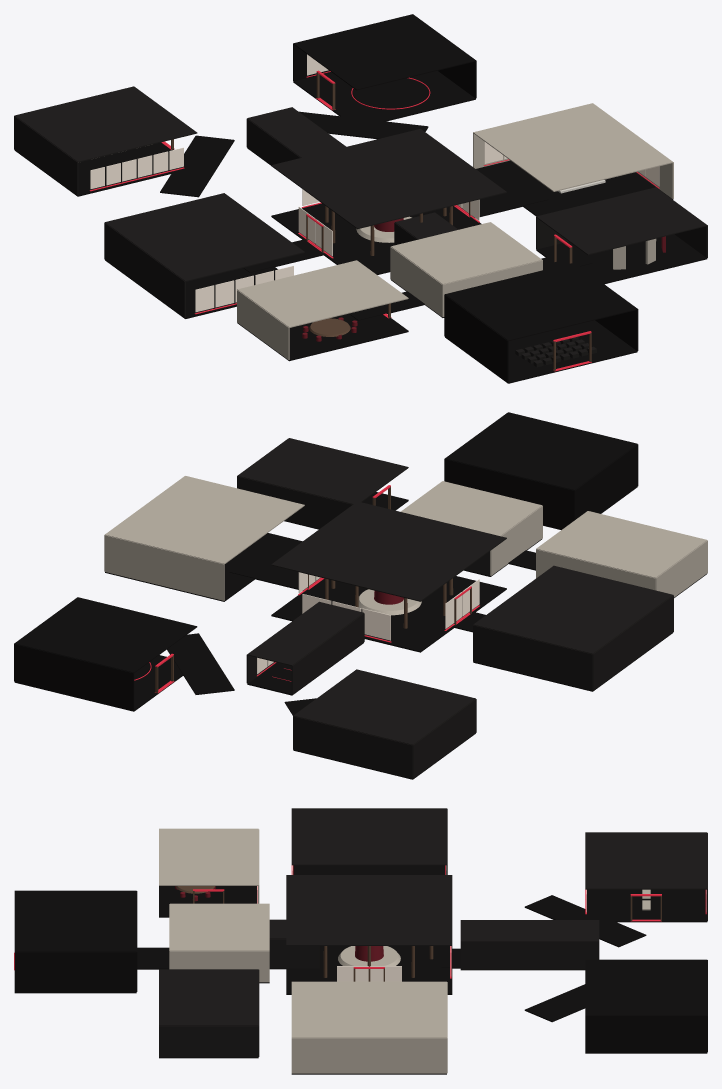
Rendered from artimist-digital-campus.glb.
3 renders of one model, top to bottom at view 1: azimuth 30°, elevation 25°; view 2: azimuth 150°, elevation 25°; view 3: azimuth 270°, elevation 25°, orthographic. The views are drawn at different scales.
Visible parts, largest first — view 1: ATRIUM_CEILING, RESIDENTIAL_CEILING, ATLAS_CEILING, CINEMA_CEILING, UNREAL_CEILING, RESEARCH_CEILING, SERVICES_CEILING, STUDIO_CEILING, CONTACT_CEILING, UNREAL_FLOOR, ATRIUM_FLOOR, RESIDENTIAL_FLOOR (+24 smaller); view 2: ATRIUM_CEILING, RESIDENTIAL_CEILING, ATLAS_CEILING, CINEMA_CEILING, UNREAL_CEILING, RESEARCH_CEILING, SERVICES_CEILING, STUDIO_CEILING, UNREAL_WALL_N, ATRIUM_FLOOR, RESIDENTIAL_WALL_N, ATLAS_WALL_N (+19 smaller); view 3: ATRIUM_CEILING, ATLAS_CEILING, RESIDENTIAL_CEILING, CINEMA_CEILING, RESEARCH_CEILING, UNREAL_CEILING, STUDIO_CEILING, SERVICES_CEILING, RESIDENTIAL_WALL_E, CINEMA_WALL_E, CONTACT_CEILING, UNREAL_WALL_E (+15 smaller).
Boxes of the visible parts, <box> form: ATRIUM_CEILING: <box>271,129,506,229</box>; RESIDENTIAL_CEILING: <box>473,103,673,191</box>; ATLAS_CEILING: <box>105,193,304,281</box>; CINEMA_CEILING: <box>445,262,637,341</box>; UNREAL_CEILING: <box>293,14,475,90</box>; RESEARCH_CEILING: <box>14,86,197,162</box>; SERVICES_CEILING: <box>536,187,707,254</box>; STUDIO_CEILING: <box>237,260,408,327</box>; CONTACT_CEILING: <box>391,222,541,284</box>; UNREAL_FLOOR: <box>293,71,475,121</box>; ATRIUM_FLOOR: <box>271,203,481,274</box>; RESIDENTIAL_FLOOR: <box>476,160,673,216</box>; ATRIUM_CEILING: <box>271,501,506,601</box>; RESIDENTIAL_CEILING: <box>105,476,304,564</box>; ATLAS_CEILING: <box>473,565,672,653</box>; CINEMA_CEILING: <box>445,412,637,490</box>; UNREAL_CEILING: <box>14,597,197,673</box>; RESEARCH_CEILING: <box>293,669,475,744</box>; SERVICES_CEILING: <box>237,438,408,504</box>; STUDIO_CEILING: <box>536,511,707,577</box>; UNREAL_WALL_N: <box>14,644,134,710</box>; ATRIUM_FLOOR: <box>271,576,506,652</box>; RESIDENTIAL_WALL_N: <box>104,535,224,600</box>; ATLAS_WALL_N: <box>473,625,592,690</box>; ATRIUM_CEILING: <box>286,875,452,945</box>; ATLAS_CEILING: <box>291,808,446,865</box>; RESIDENTIAL_CEILING: <box>291,981,446,1038</box>; CINEMA_CEILING: <box>14,890,136,951</box>; RESEARCH_CEILING: <box>585,832,707,889</box>; UNREAL_CEILING: <box>585,959,707,1016</box>; STUDIO_CEILING: <box>159,828,258,885</box>; SERVICES_CEILING: <box>159,969,258,1025</box>; RESIDENTIAL_WALL_E: <box>291,1038,446,1073</box>; CINEMA_WALL_E: <box>14,952,136,992</box>; CONTACT_CEILING: <box>170,903,269,950</box>; UNREAL_WALL_E: <box>585,1016,707,1052</box>.
Size of what is drawn, in the model's own units: 98.24 by 10.53 by 125.
